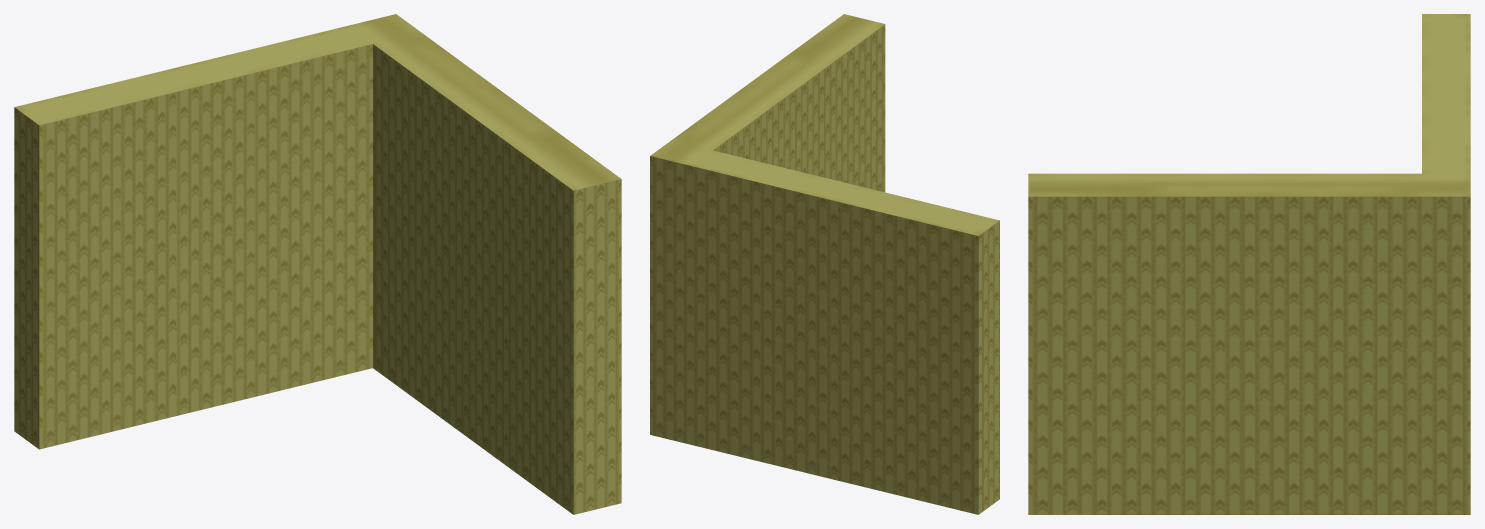
File: wall3.fbx
The picture shows the model from 3 angles, left to right: view 1: azimuth 30°, elevation 25°; view 2: azimuth 150°, elevation 25°; view 3: azimuth 270°, elevation 25°; orthographic projection. The views are drawn at different scales.
Visible parts, largest first — view 1: 立方體.006; view 2: 立方體.006; view 3: 立方體.006.
Part boxes in pixels (x1,y1,x2,y2): 立方體.006: (14,14,621,514); 立方體.006: (650,14,999,514); 立方體.006: (1028,14,1470,514).
Bounding box in the file's own units: 795 × 645 × 813.
